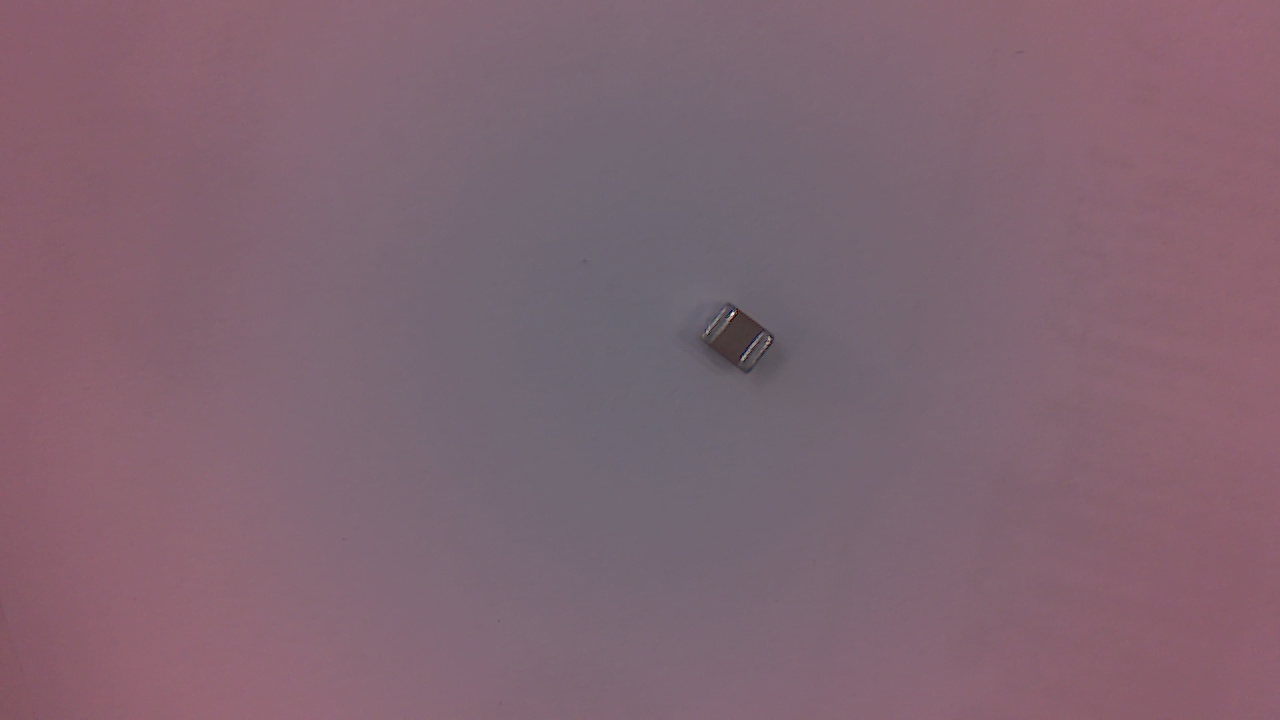Condensator: (706, 305, 780, 382)
